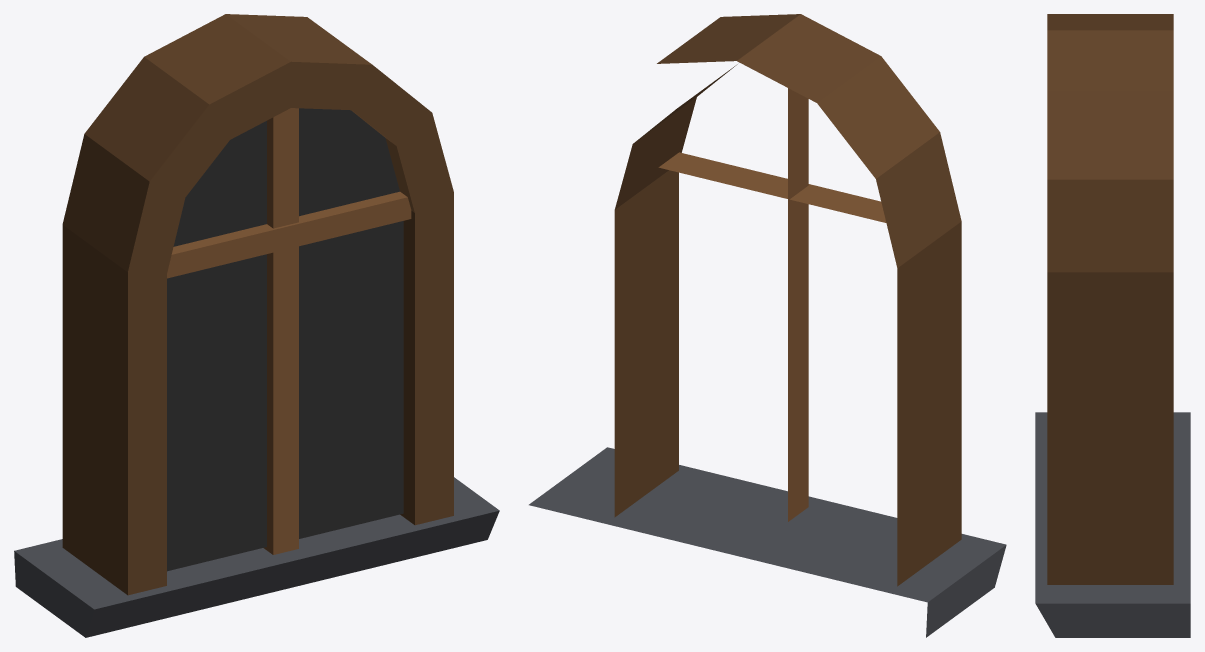
Rendered from Window_3.gltf.
3 renders of one model, left to right at view 1: azimuth 30°, elevation 25°; view 2: azimuth 150°, elevation 25°; view 3: azimuth 270°, elevation 25°, orthographic. The views are drawn at different scales.
Visible parts, largest first — view 1: Window_3; view 2: Window_3; view 3: Window_3.
Boxes of the visible parts, x1,y1,x2,y2 form: Window_3: (14, 14, 499, 637); Window_3: (529, 14, 1006, 637); Window_3: (1035, 14, 1190, 637).
Size of the model in its own units: 0.447 by 0.5585 by 0.1532.
